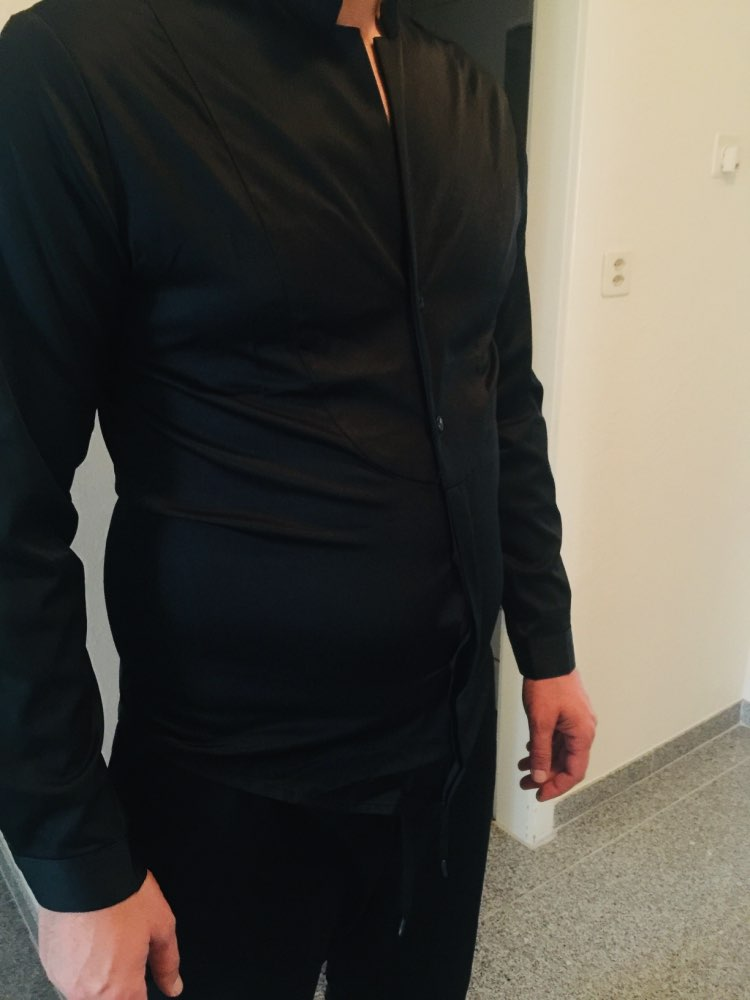shirts: (2, 1, 575, 901)
